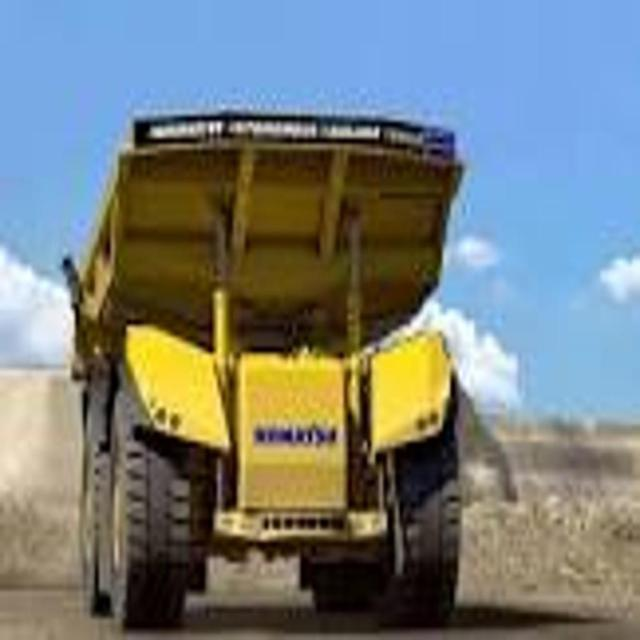dump_truck: (57, 99, 471, 640)
